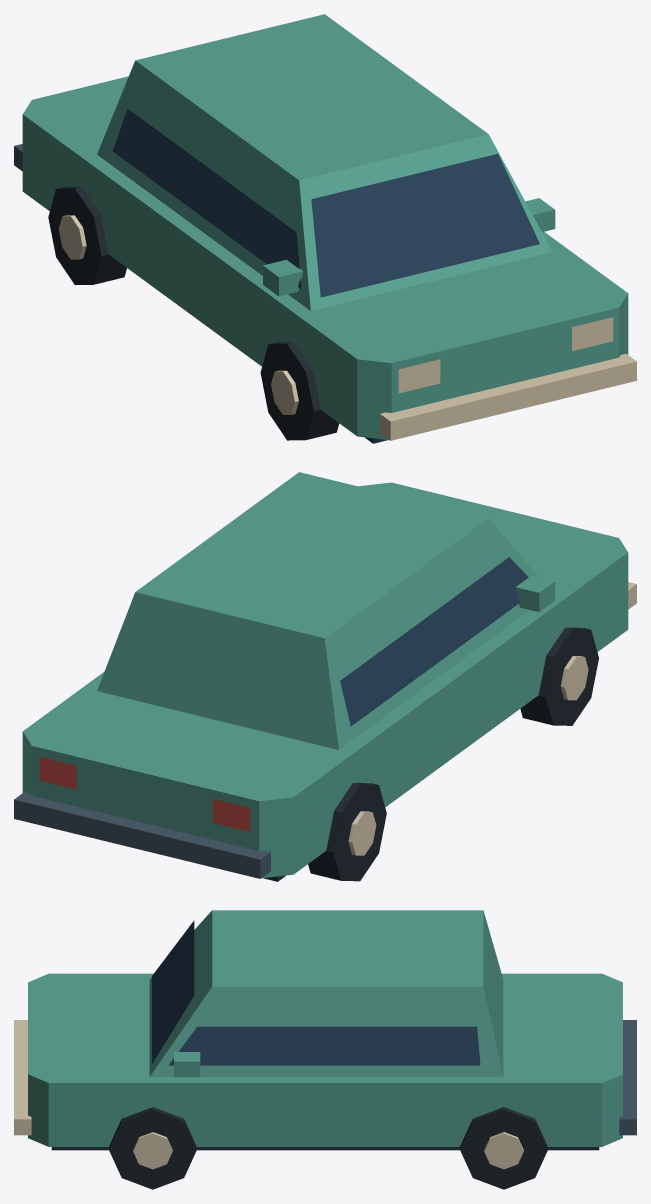
Rendered from car-wagon.glb.
The picture shows the model from 3 angles, top to bottom: view 1: azimuth 30°, elevation 25°; view 2: azimuth 150°, elevation 25°; view 3: azimuth 270°, elevation 25°; orthographic projection. The views are drawn at different scales.
Parts seen in each view (by area): view 1: asset_root; view 2: asset_root; view 3: asset_root.
Part boxes in pixels (bbox=[...]): asset_root: bbox=[14, 14, 636, 443]; asset_root: bbox=[14, 472, 636, 881]; asset_root: bbox=[14, 910, 636, 1189].
Size of the model in its own units: 1.91 by 1.38 by 4.24.
